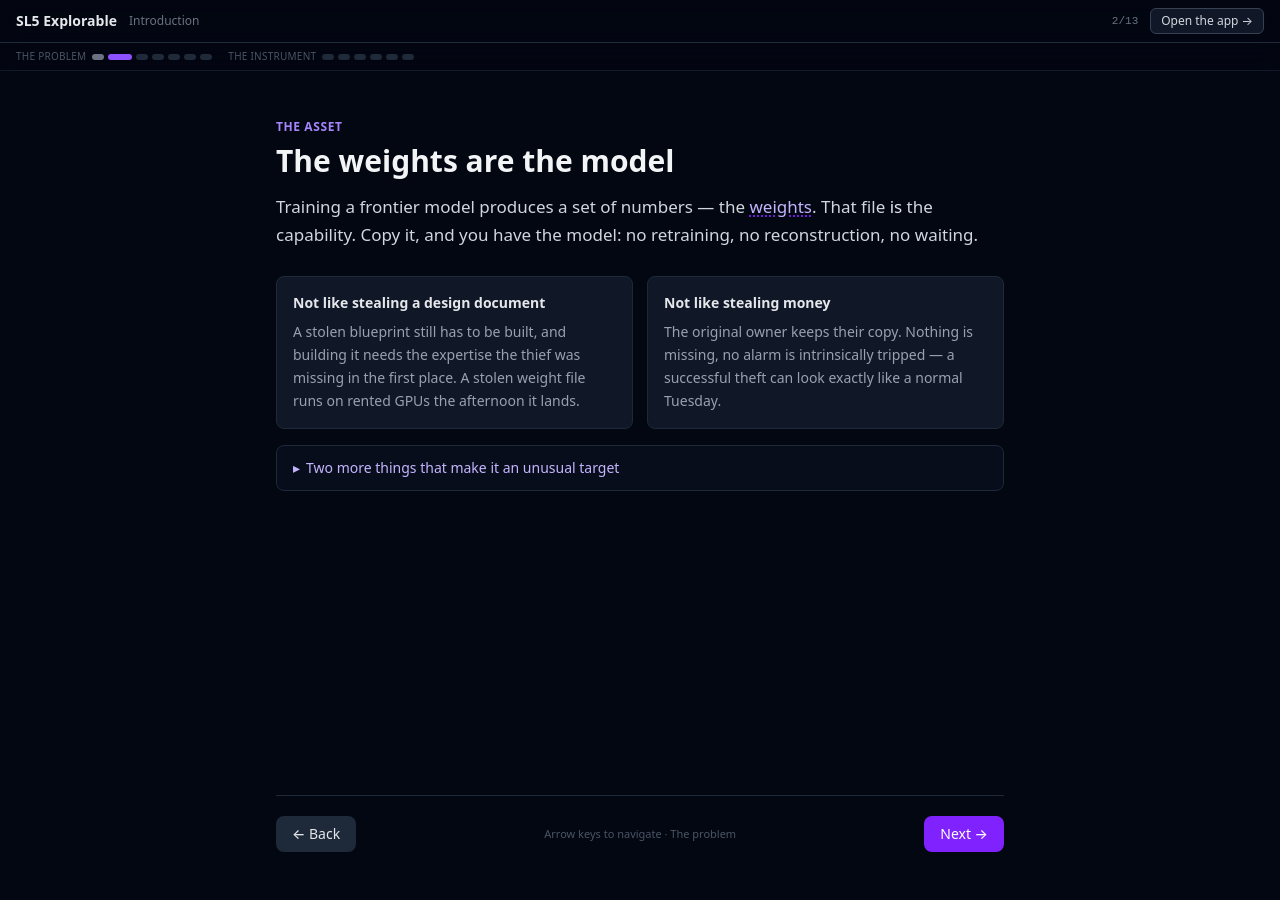
Test case: jargon is explained in place › clicking a term shows its definition, and clicking again hides it
Step 1. Click the button "weights" → (781,207), box top-left (749, 193), bottom-right (812, 221)
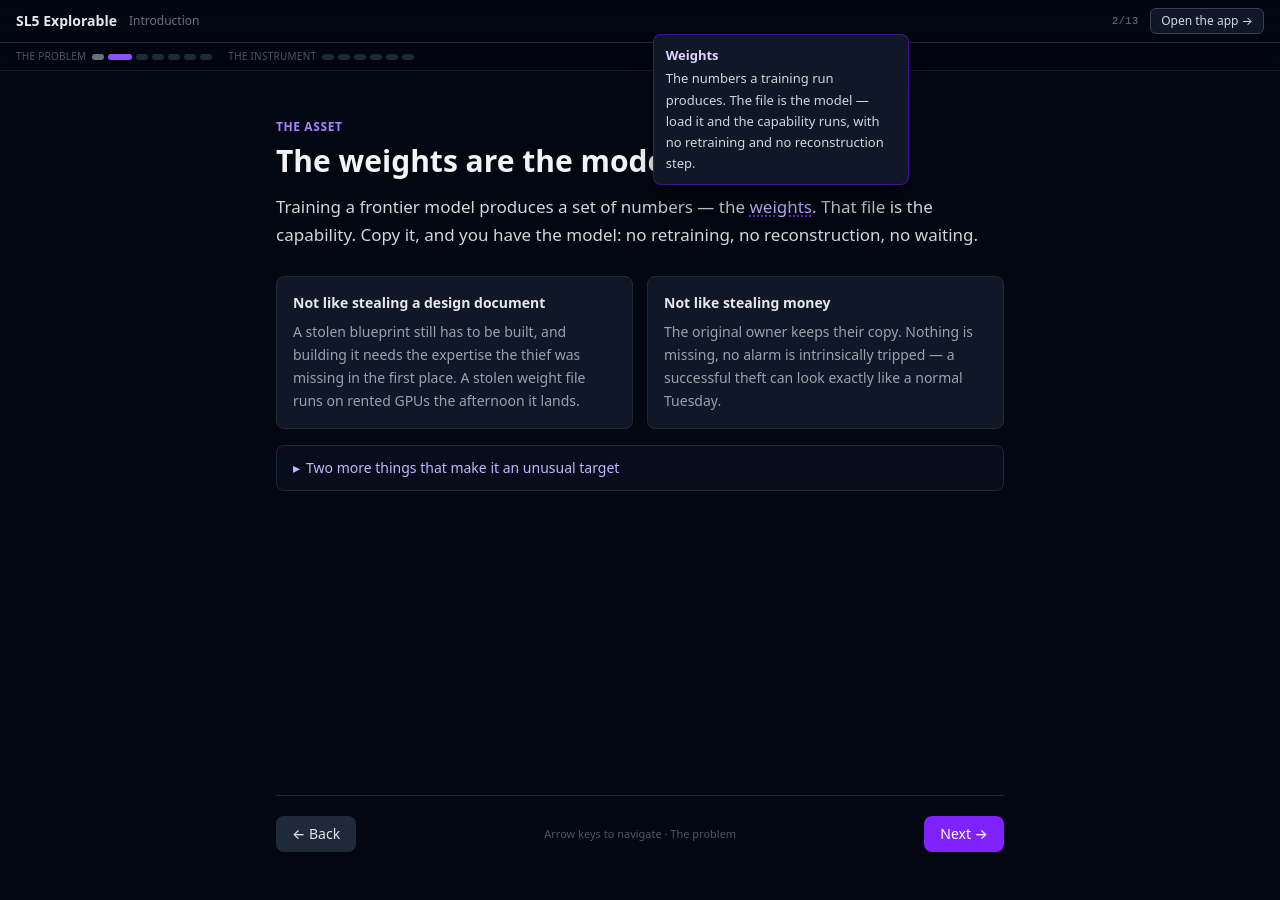
Check: the button "weights" is expanded
Check: the tooltip "The numbers a training run produces. The file is the model — load it and the capability runs, with no retraining and no " is shown, box top-left (666, 69), bottom-right (884, 172)
Step 2. Click the button "weights" → (781,207), box top-left (749, 193), bottom-right (812, 221)
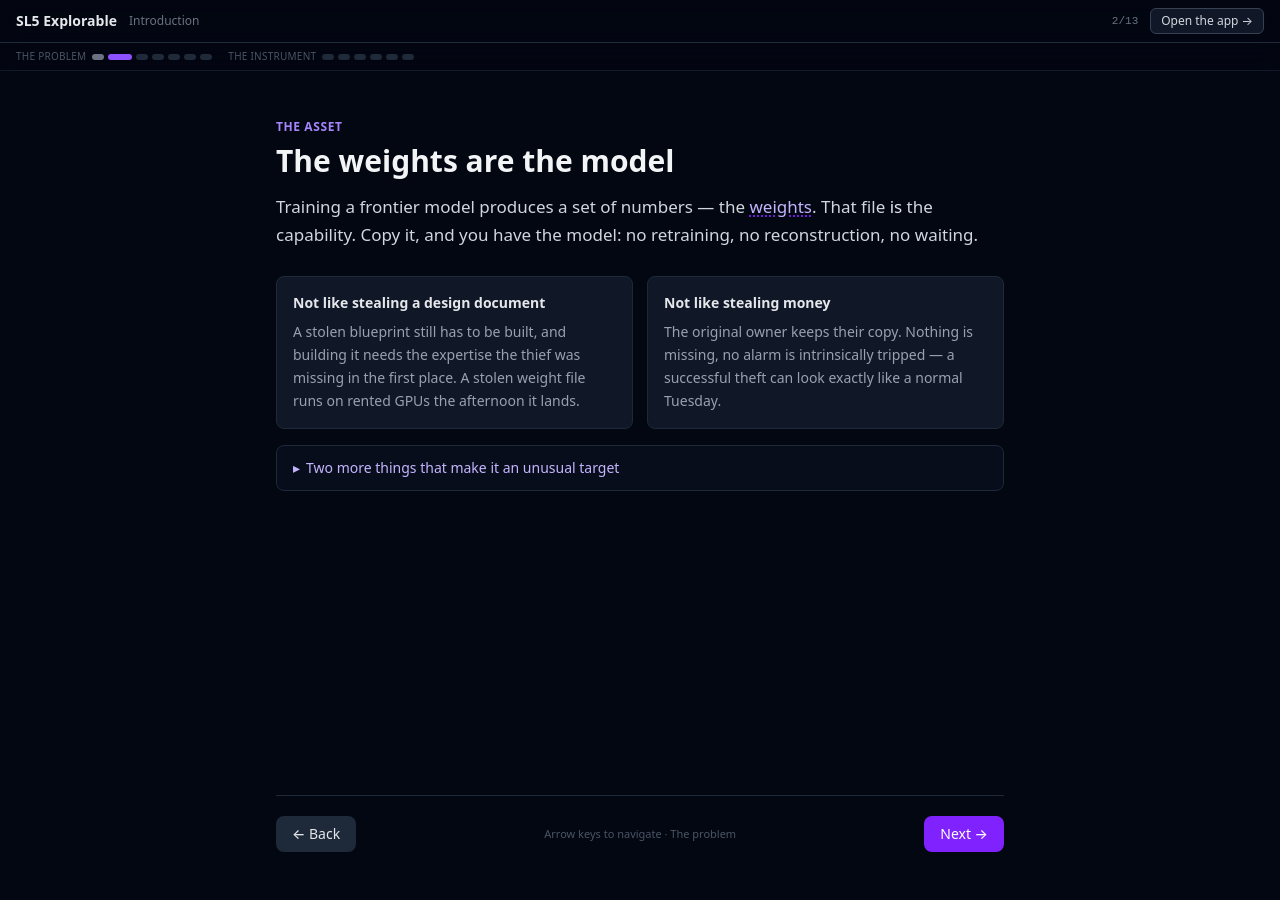
Check: the button "weights" is collapsed, box top-left (749, 193), bottom-right (812, 221)
